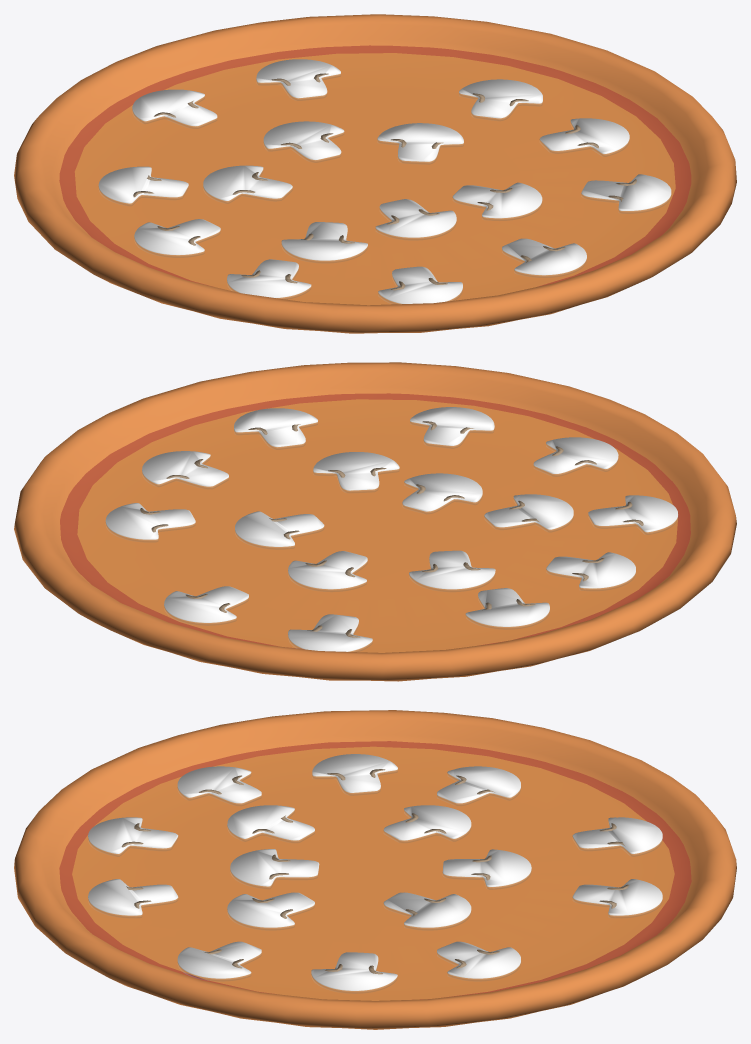
The model's file is pizza_pieczarki.gltf.
3 renders of one model, top to bottom at view 1: azimuth 30°, elevation 25°; view 2: azimuth 150°, elevation 25°; view 3: azimuth 270°, elevation 25°, orthographic.
Visible parts, largest first — view 1: Cylinder, Circle.002, Circle.001, Sphere.005; view 2: Cylinder, Circle.002, Circle.001, Sphere.005; view 3: Cylinder, Circle.002, Circle.001, Sphere.005.
Part boxes in pixels (bbox=[...]): Cylinder: bbox=[14, 14, 736, 333]; Circle.002: bbox=[59, 45, 691, 304]; Circle.001: bbox=[75, 53, 675, 305]; Sphere.005: bbox=[98, 59, 671, 303]; Cylinder: bbox=[14, 362, 736, 681]; Circle.002: bbox=[60, 393, 690, 652]; Circle.001: bbox=[77, 399, 677, 652]; Sphere.005: bbox=[105, 407, 678, 651]; Cylinder: bbox=[14, 710, 736, 1029]; Circle.002: bbox=[59, 741, 691, 1000]; Circle.001: bbox=[72, 746, 674, 1000]; Sphere.005: bbox=[88, 754, 662, 993].
Bounding box in the file's own units: 1.44 × 0.0648 × 1.44.
Materials: 6 (6 with a texture image).
